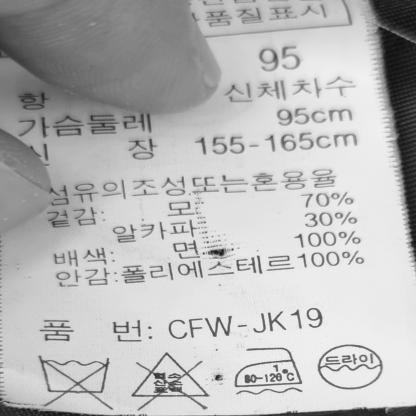KR_dry_clean: (314, 334, 389, 397)
KR_iron_low_temp: (226, 336, 306, 400)
KR_no_bleach: (128, 345, 214, 411)
KR_no_wash: (32, 347, 114, 407)
